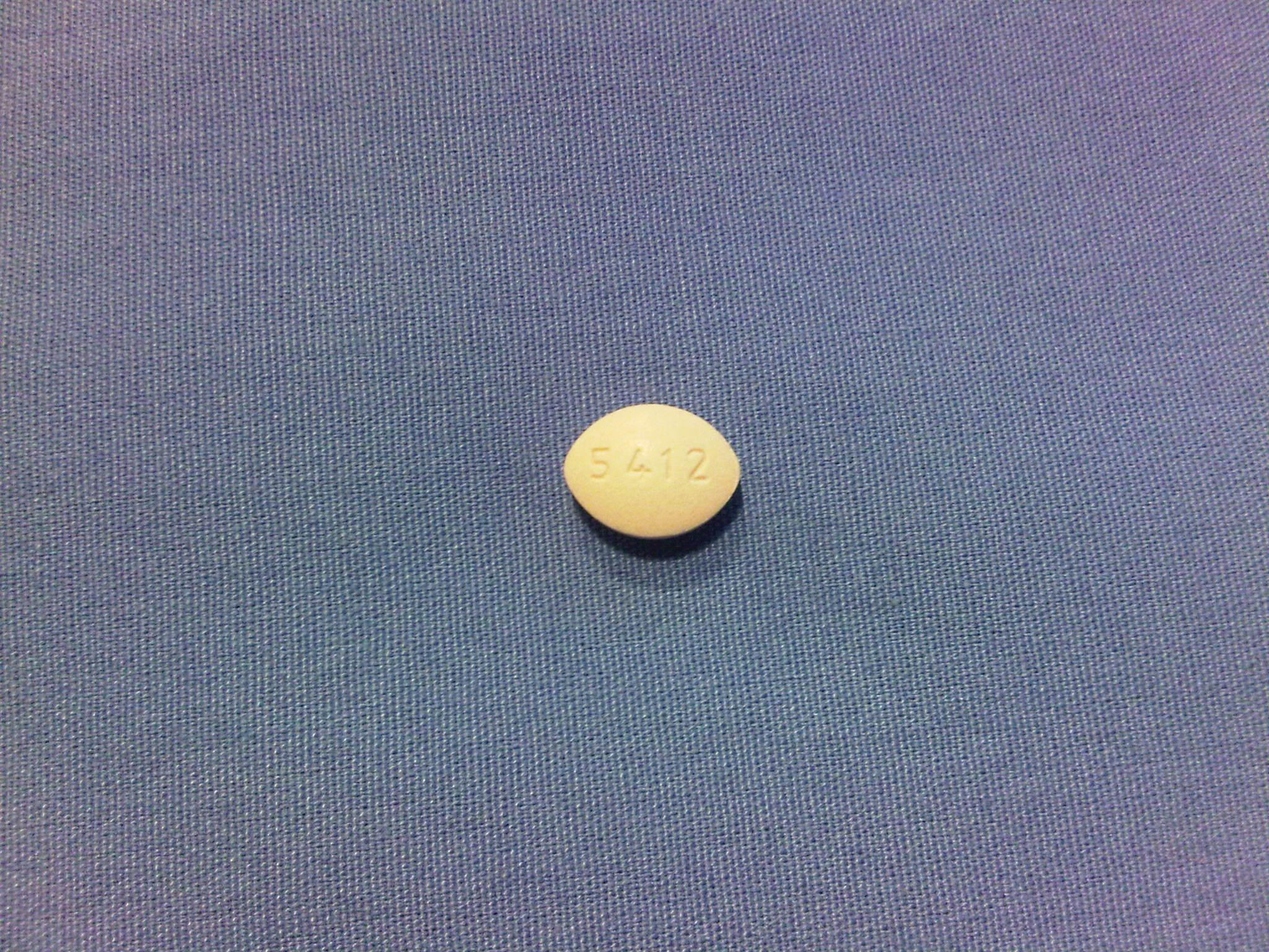Pill: (556, 397, 750, 547)
